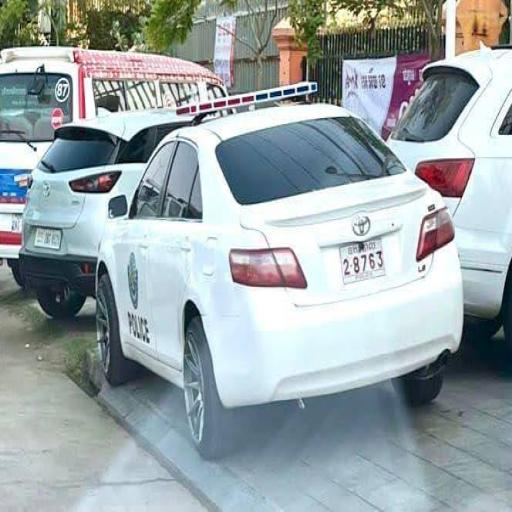Plate Number: (339, 240, 382, 282), (33, 225, 63, 252)
